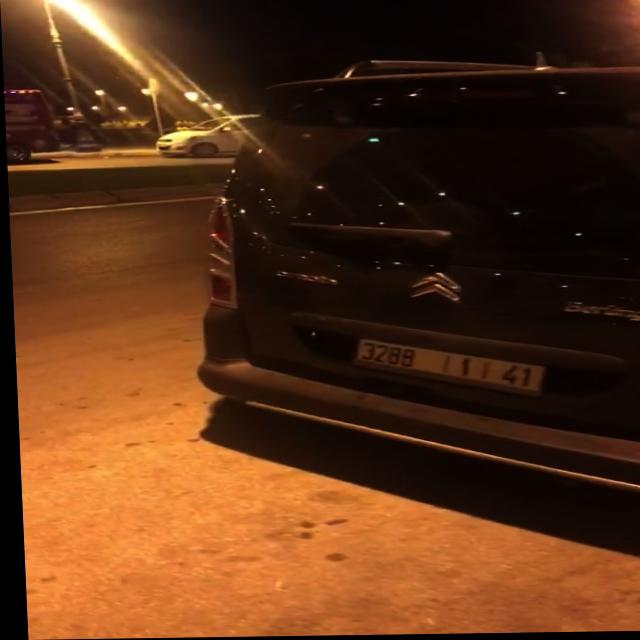License-Plate: (351, 340, 543, 397)
